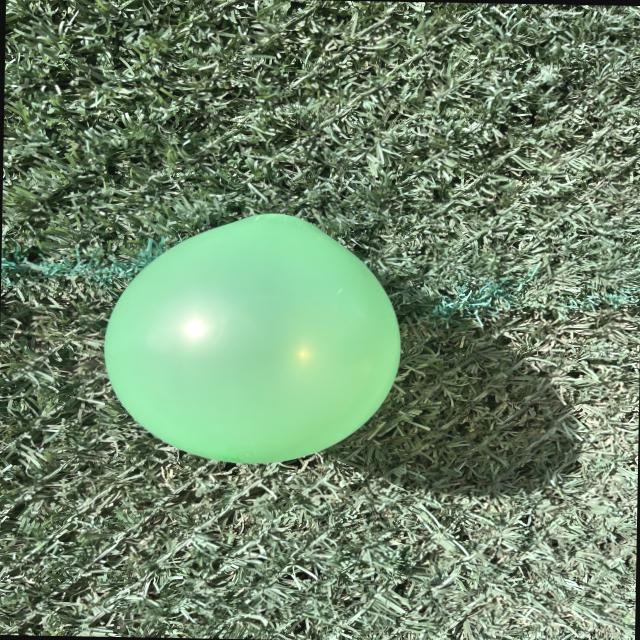balloon: (104, 213, 399, 462)
